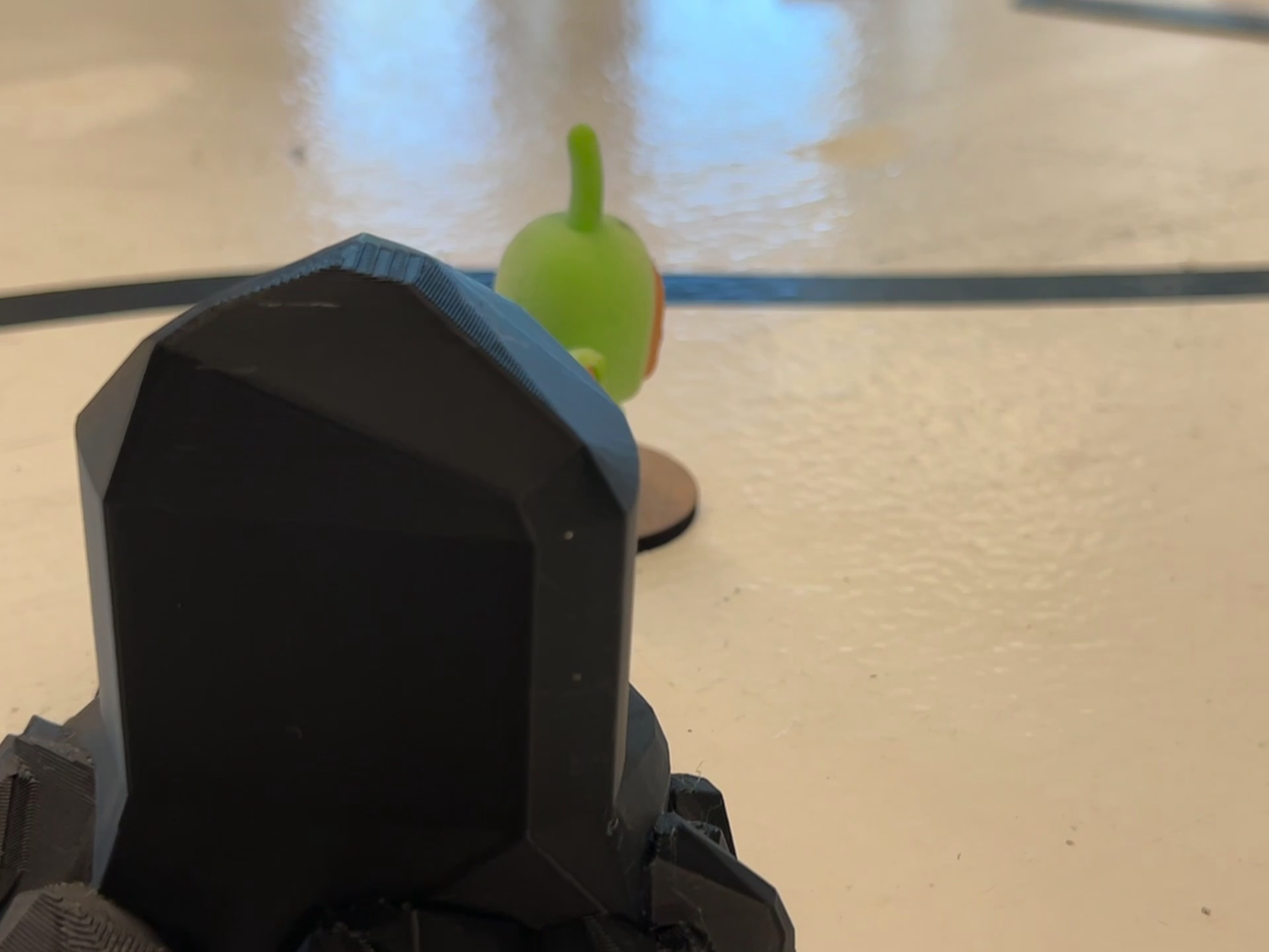teletubby: (494, 124, 664, 403)
